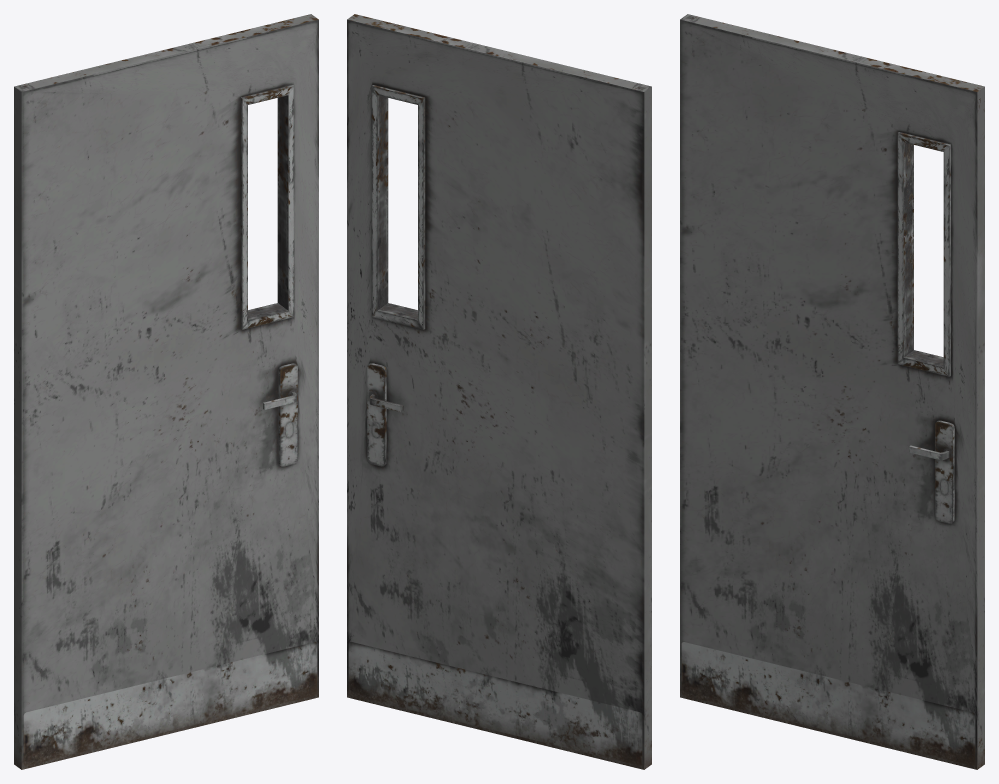
Rendered from SM_Door_A_Grey.glb.
The picture shows the model from 3 angles, left to right: view 1: azimuth 30°, elevation 25°; view 2: azimuth 150°, elevation 25°; view 3: azimuth 330°, elevation 25°; orthographic projection.
Visible parts, largest first — view 1: SM_Door_A_Grey; view 2: SM_Door_A_Grey; view 3: SM_Door_A_Grey.
Part boxes in pixels (<box>): SM_Door_A_Grey: <box>14,14,318,769</box>; SM_Door_A_Grey: <box>347,14,651,769</box>; SM_Door_A_Grey: <box>680,14,984,769</box>.
Size of the model in its own units: 1.12 by 2.44 by 0.1401.
Materials: 2 (2 with a texture image).
